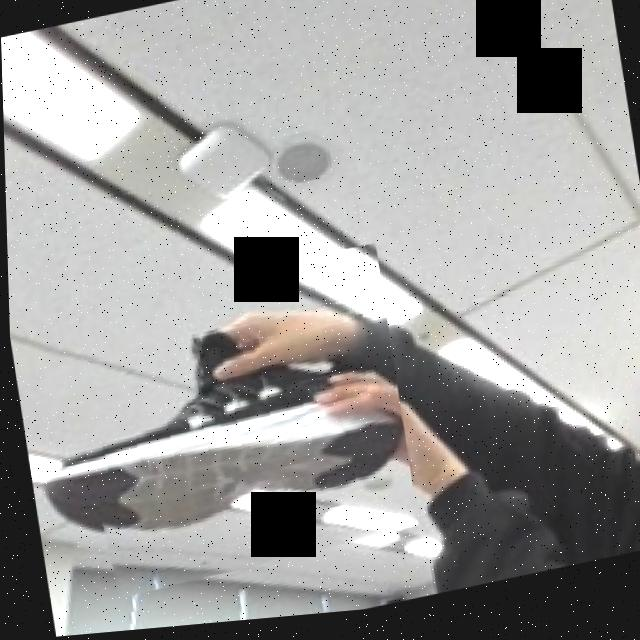shoe: (50, 246, 418, 606)
